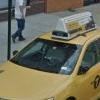Car: (1, 19, 99, 100)
